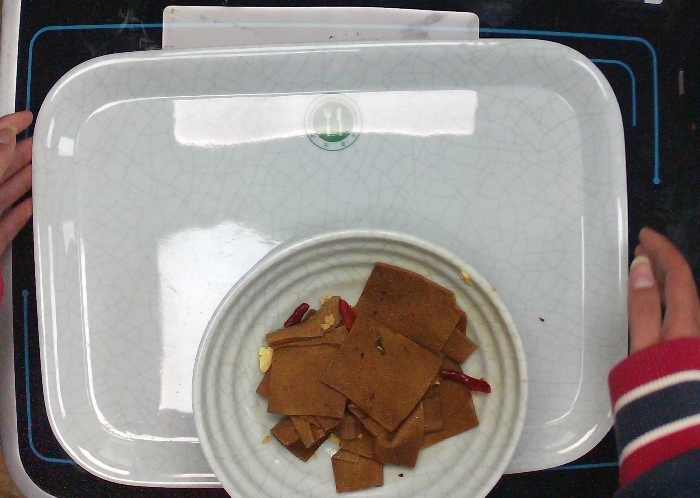JYsf-Da_Tang_Wan: (184, 220, 533, 498)
